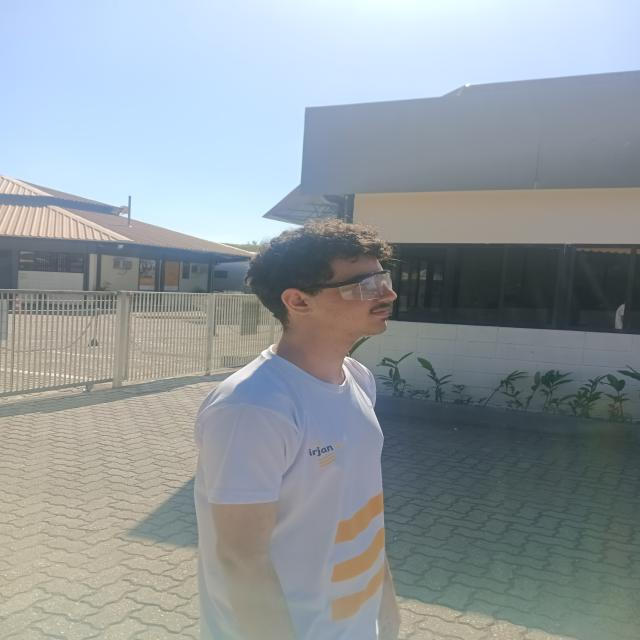oculos-epi: (316, 273, 407, 308)
